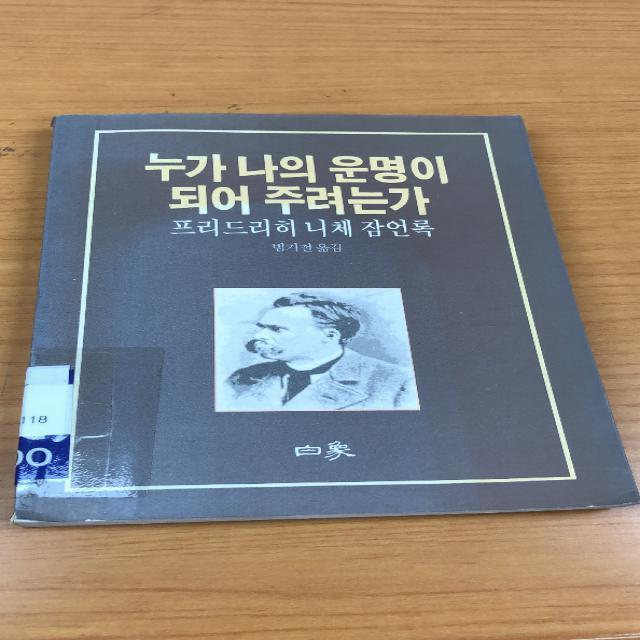Ripped: (5, 504, 73, 528), (47, 112, 90, 129)
Wornout: (452, 110, 528, 126), (550, 496, 616, 513), (96, 110, 162, 123), (79, 514, 116, 524)
